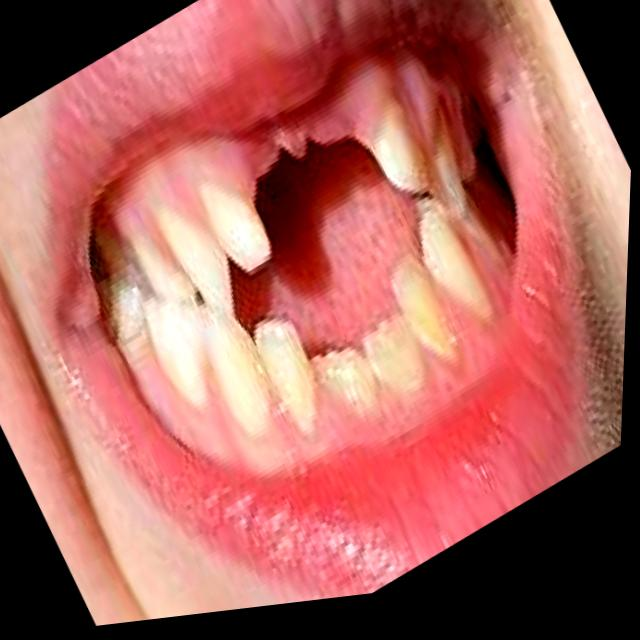hypodontia: (191, 62, 420, 270)
